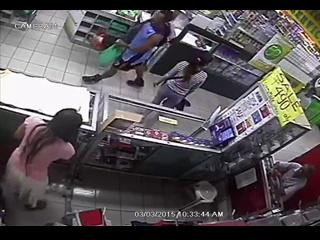Normal: (0, 108, 84, 224), (81, 10, 176, 86)
